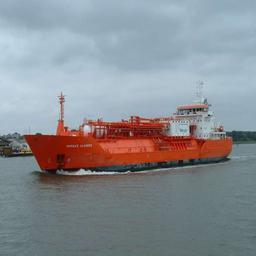Ship: (23, 93, 235, 175)
